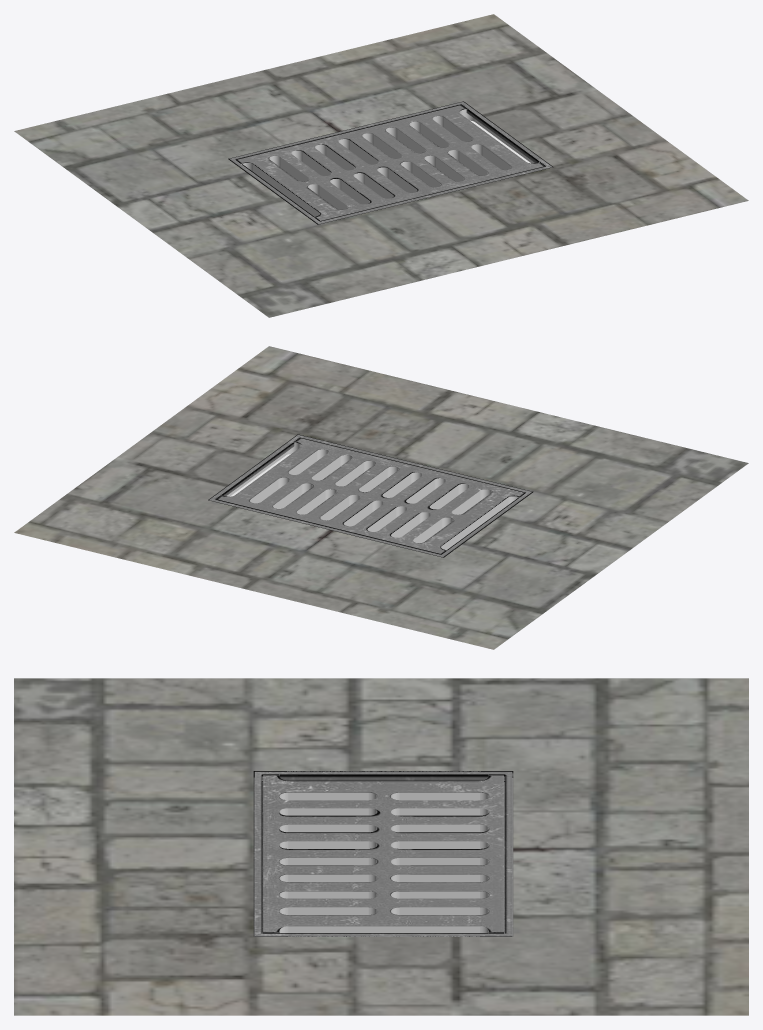
The model's file is alcantarilla.gltf.
3 renders of one model, top to bottom at view 1: azimuth 30°, elevation 25°; view 2: azimuth 150°, elevation 25°; view 3: azimuth 270°, elevation 25°, orthographic. The views are drawn at different scales.
Parts seen in each view (by area): view 1: alcantarilla; view 2: alcantarilla; view 3: alcantarilla.
Part boxes in pixels (<box>): alcantarilla: <box>14,14,748,317</box>; alcantarilla: <box>14,346,748,649</box>; alcantarilla: <box>14,678,748,1015</box>.
Bounding box in the file's own units: 6.41 × 0.1526 × 5.9.
3 materials, 2 textured.
